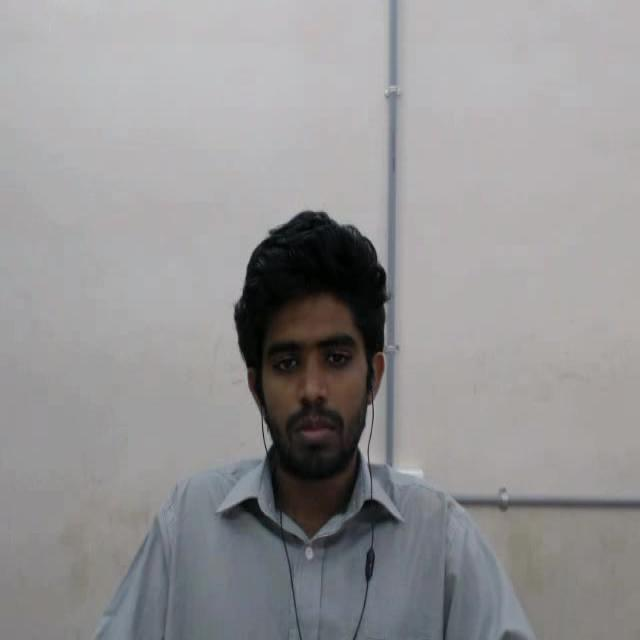Engaged: (223, 201, 424, 523)
